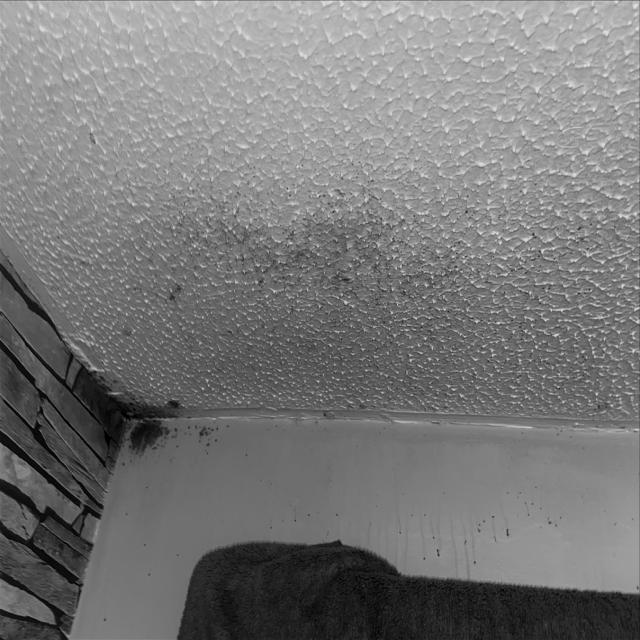stain marks: (150, 176, 616, 340), (263, 433, 634, 578), (58, 347, 260, 509)
